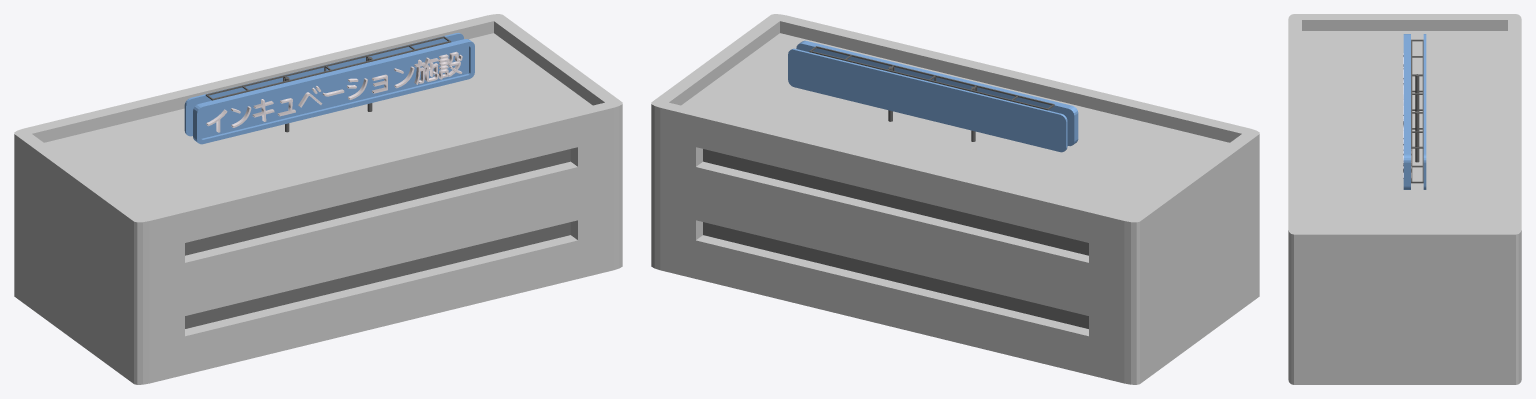
The model's file is map_incubation.glb.
The picture shows the model from 3 angles, left to right: view 1: azimuth 30°, elevation 25°; view 2: azimuth 150°, elevation 25°; view 3: azimuth 270°, elevation 25°; orthographic projection. The views are drawn at different scales.
Parts seen in each view (by area): view 1: インキュベーション施設, Cube.018, テキスト.011, Cube.019, 看板骨組み14.015, 看板骨組み11.015; view 2: インキュベーション施設, Cube.019, Cube.018, 看板骨組み11.015, 看板骨組み14.015; view 3: インキュベーション施設, Cube.018, Cube.019, 看板柱3.010, 看板骨組み11.015, 看板骨組み14.015.
Part boxes in pixels (bbox=[...]): インキュベーション施設: bbox=[14, 14, 622, 384]; Cube.018: bbox=[193, 39, 474, 144]; テキスト.011: bbox=[206, 51, 462, 132]; Cube.019: bbox=[184, 32, 463, 136]; 看板骨組み14.015: bbox=[206, 36, 444, 95]; 看板骨組み11.015: bbox=[212, 41, 450, 100]; インキュベーション施設: bbox=[651, 14, 1259, 384]; Cube.019: bbox=[788, 48, 1067, 152]; Cube.018: bbox=[796, 40, 1078, 146]; 看板骨組み11.015: bbox=[816, 46, 1054, 105]; 看板骨組み14.015: bbox=[809, 50, 1047, 110]; インキュベーション施設: bbox=[1288, 14, 1521, 384]; Cube.018: bbox=[1403, 34, 1410, 189]; Cube.019: bbox=[1423, 34, 1426, 189]; 看板柱3.010: bbox=[1415, 111, 1419, 162]; 看板骨組み11.015: bbox=[1411, 39, 1412, 147]; 看板骨組み14.015: bbox=[1422, 39, 1423, 147].
Bounding box in the file's own units: 27.77 × 11.08 × 12.43.
